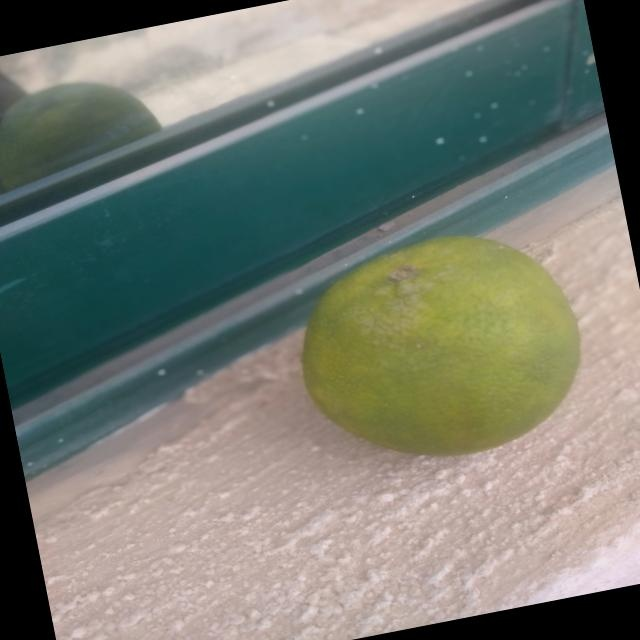agrume: (272, 206, 600, 510)
